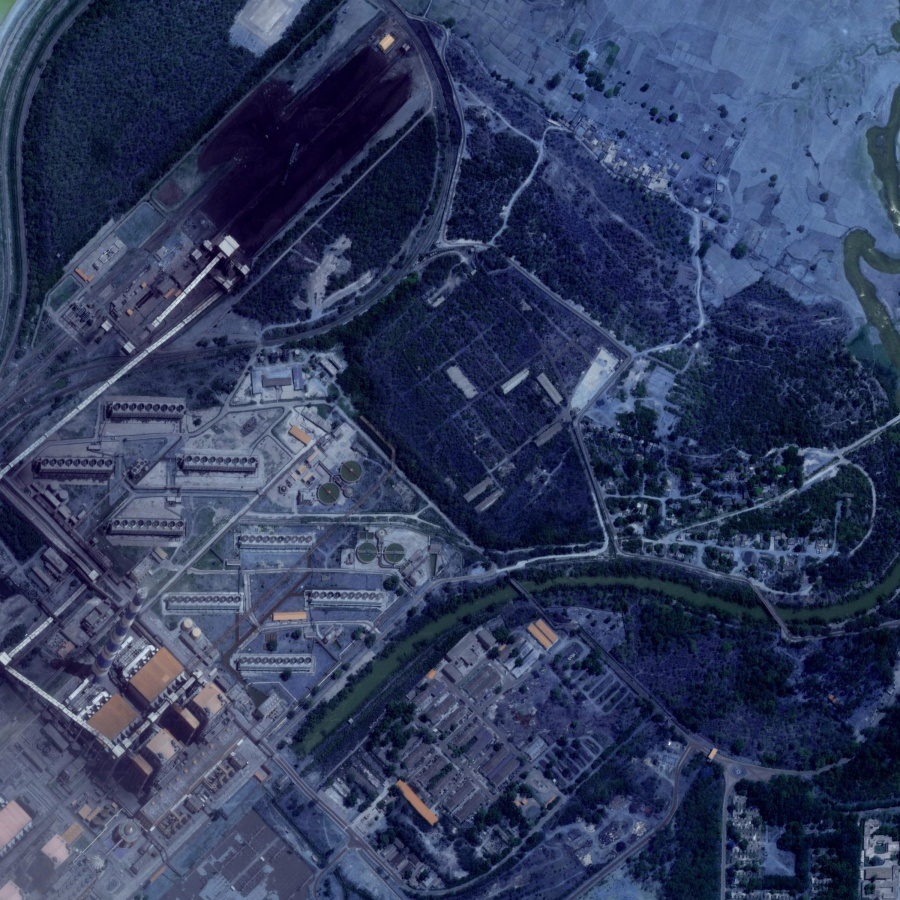PowerPlant: (152, 14, 430, 296)
